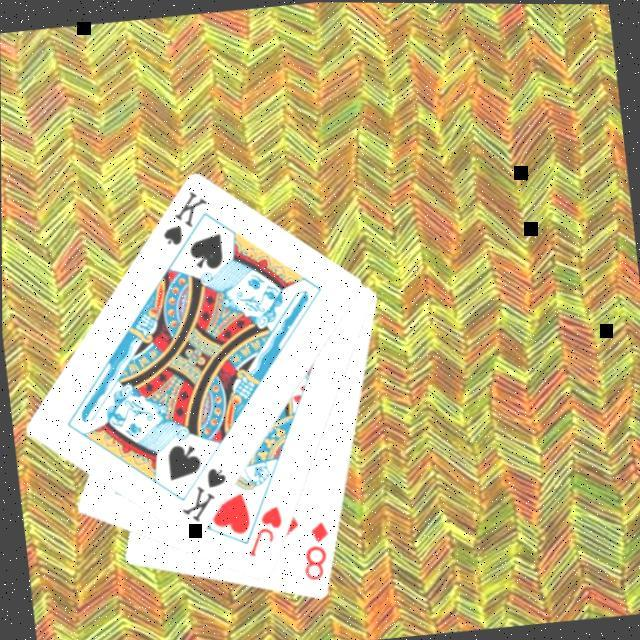8D: (292, 517, 335, 585)
JH: (237, 502, 287, 561)
KS: (153, 187, 214, 262), (172, 463, 232, 528)
